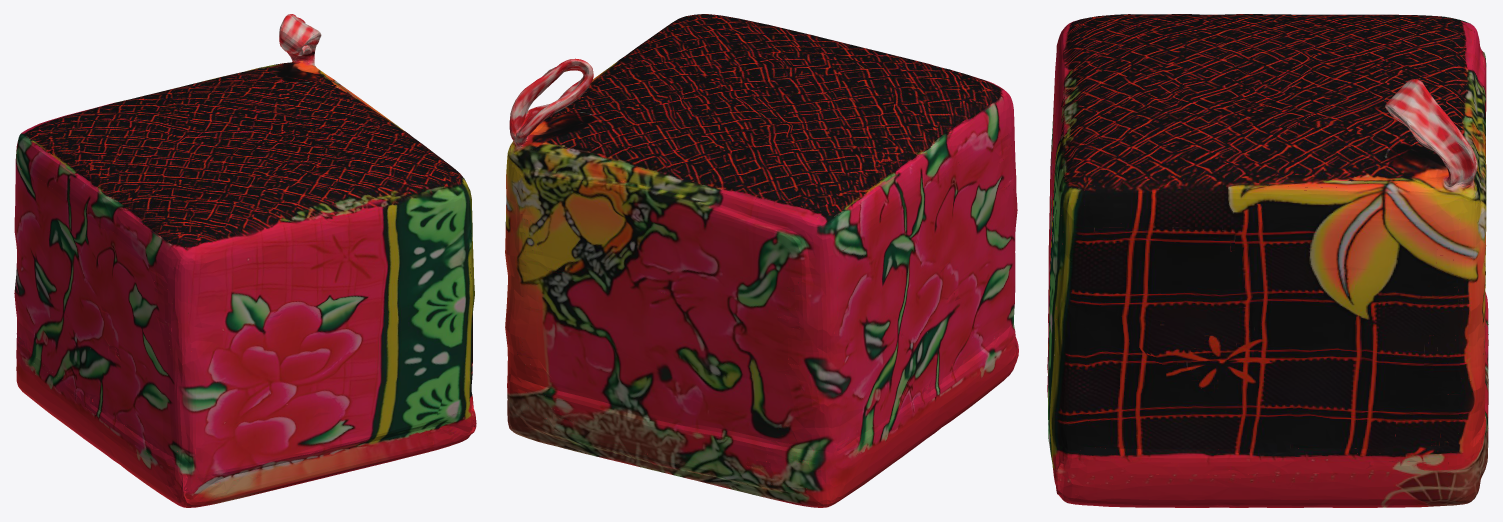
The model's file is dundun1.glb.
3 renders of one model, left to right at view 1: azimuth 30°, elevation 25°; view 2: azimuth 150°, elevation 25°; view 3: azimuth 270°, elevation 25°, orthographic. The views are drawn at different scales.
Parts seen in each view (by area): view 1: tripo_node_3bdd6aed-fa3e-4247-8ea1-a84d52093f1a; view 2: tripo_node_3bdd6aed-fa3e-4247-8ea1-a84d52093f1a; view 3: tripo_node_3bdd6aed-fa3e-4247-8ea1-a84d52093f1a.
Part boxes in pixels (box(x1,y1,x2,y2)): tripo_node_3bdd6aed-fa3e-4247-8ea1-a84d52093f1a: box(14, 14, 476, 507); tripo_node_3bdd6aed-fa3e-4247-8ea1-a84d52093f1a: box(505, 14, 1018, 507); tripo_node_3bdd6aed-fa3e-4247-8ea1-a84d52093f1a: box(1047, 14, 1488, 507).
Size of the model in its own units: 0.9534 by 0.9991 by 0.9702.
1 material, 1 textured.
